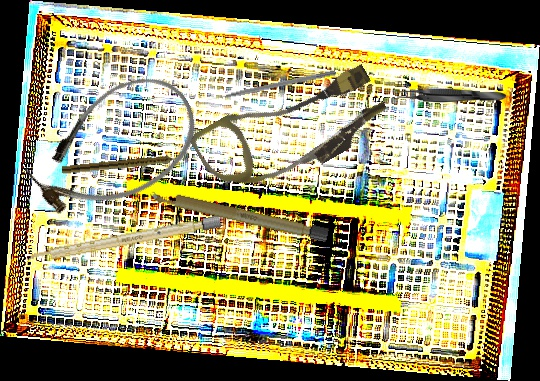Cannula: (12, 57, 216, 239), (188, 44, 395, 216)
Handpiece: (61, 153, 185, 177)
Pusher: (205, 68, 337, 103)
Scalpel Handle: (148, 186, 330, 243), (26, 215, 222, 265)
Tissue Forceps: (396, 87, 507, 104)
